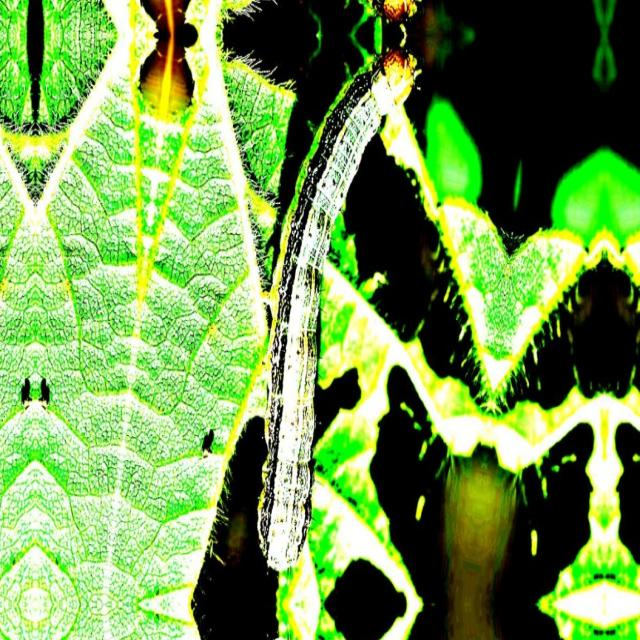Armyworm: (240, 36, 415, 611)
